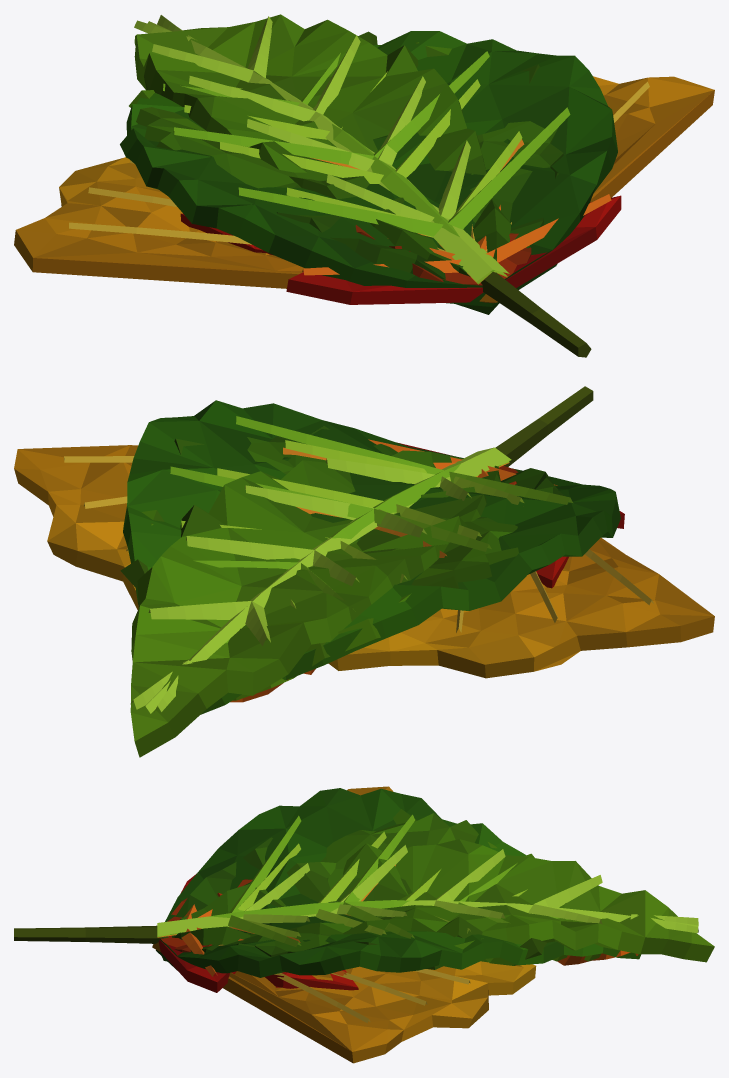
Rendered from Leaves.fbx.
3 renders of one model, top to bottom at view 1: azimuth 30°, elevation 25°; view 2: azimuth 150°, elevation 25°; view 3: azimuth 270°, elevation 25°, orthographic. The views are drawn at different scales.
Visible parts, largest first — view 1: Leaf_Round, Leaf_Long, Leaf_Ginkgo, Leaf_Serrated, Leaf_Maple, Leaf_Oak; view 2: Leaf_Long, Leaf_Round, Leaf_Ginkgo, Leaf_Serrated, Leaf_Maple, Leaf_Oak; view 3: Leaf_Long, Leaf_Round, Leaf_Ginkgo, Leaf_Serrated, Leaf_Maple, Leaf_Oak.
Part boxes in pixels (<box>): Leaf_Round: <box>120,31,617,306</box>; Leaf_Long: <box>134,14,591,357</box>; Leaf_Ginkgo: <box>14,76,714,303</box>; Leaf_Serrated: <box>129,31,563,314</box>; Leaf_Maple: <box>180,194,621,304</box>; Leaf_Oak: <box>310,139,531,285</box>; Leaf_Long: <box>130,386,593,757</box>; Leaf_Round: <box>123,400,620,714</box>; Leaf_Ginkgo: <box>14,445,714,678</box>; Leaf_Serrated: <box>120,426,565,700</box>; Leaf_Maple: <box>368,439,624,588</box>; Leaf_Oak: <box>230,447,518,702</box>; Leaf_Long: <box>14,839,714,962</box>; Leaf_Round: <box>156,788,641,977</box>; Leaf_Ginkgo: <box>152,786,536,1063</box>; Leaf_Serrated: <box>157,809,600,969</box>; Leaf_Maple: <box>158,873,358,992</box>; Leaf_Oak: <box>157,865,638,965</box>.
Size of the model in its own units: 0.4456 by 0.0745 by 0.5029.
